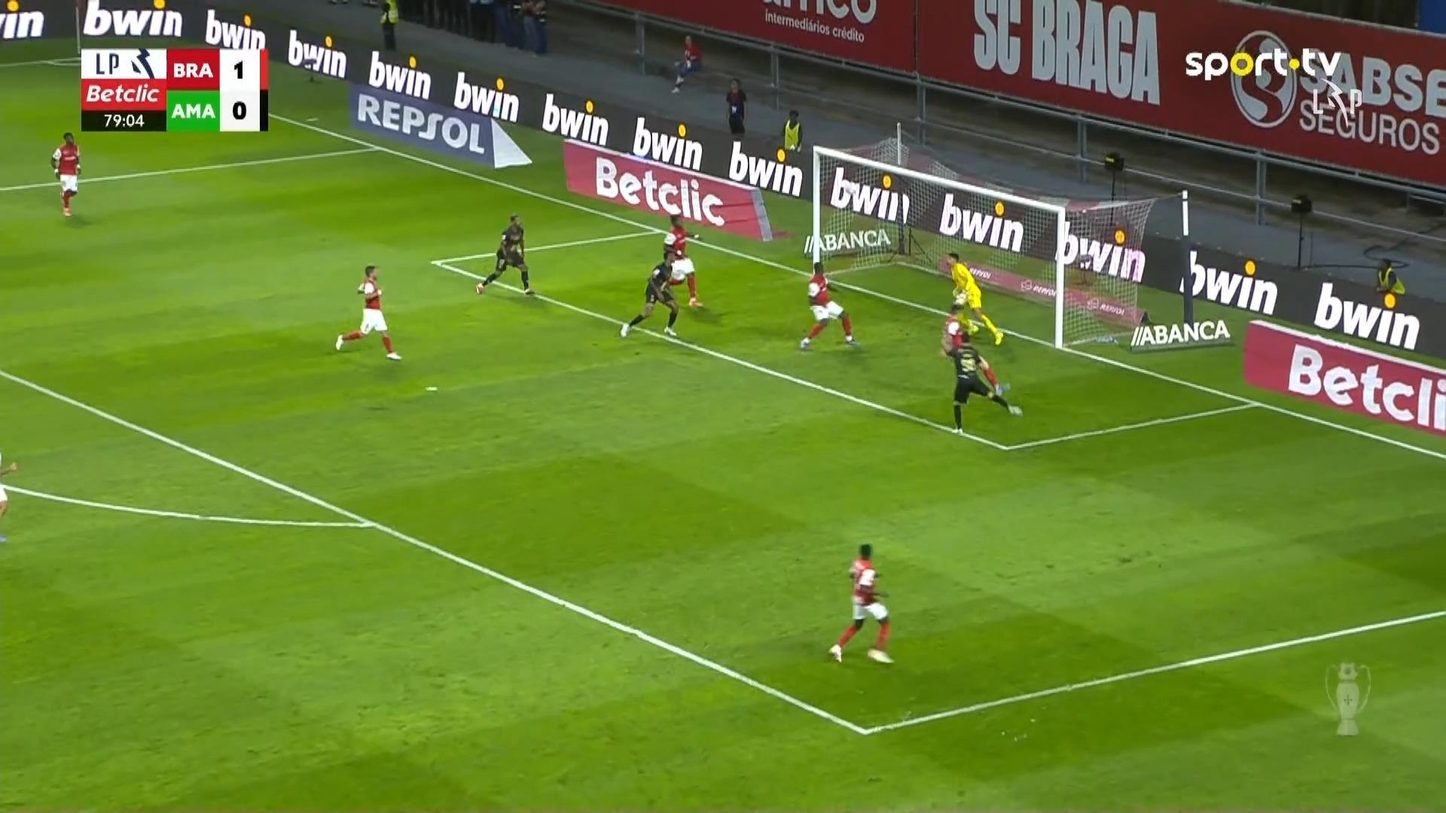ball: (946, 321, 959, 335)
goalkeeper: (943, 251, 1004, 346)
player: (939, 316, 1023, 435), (827, 542, 895, 664), (334, 263, 401, 360), (618, 248, 682, 339), (798, 260, 858, 350), (474, 213, 535, 297), (661, 212, 703, 308), (50, 131, 81, 216)
